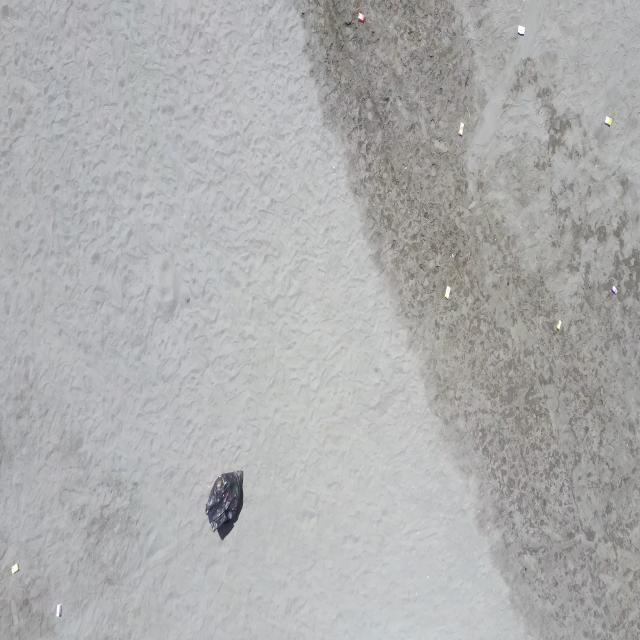Garbage: (204, 471, 241, 529), (457, 121, 463, 135), (9, 564, 18, 573), (609, 284, 616, 295), (357, 12, 364, 23), (516, 24, 523, 35), (604, 116, 612, 125), (444, 286, 449, 299), (55, 603, 60, 616), (555, 320, 560, 331)
